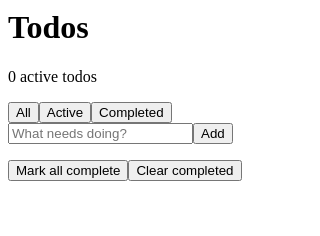
Test: TodoApp › adds a todo to the list
Type "Buy milk" into the field named "New todo" at point(100, 133), box [8, 123, 193, 144]
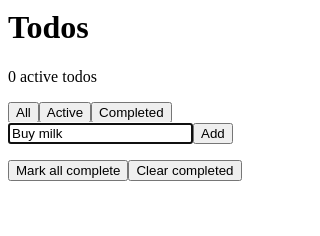
Click the button "Add" at point(213, 133), box [193, 123, 233, 144]
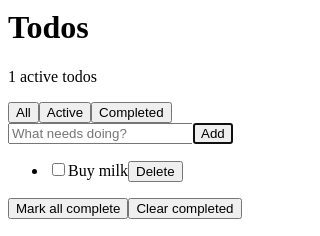
Result: the text "Buy milk" is shown at [68, 162, 128, 179]
